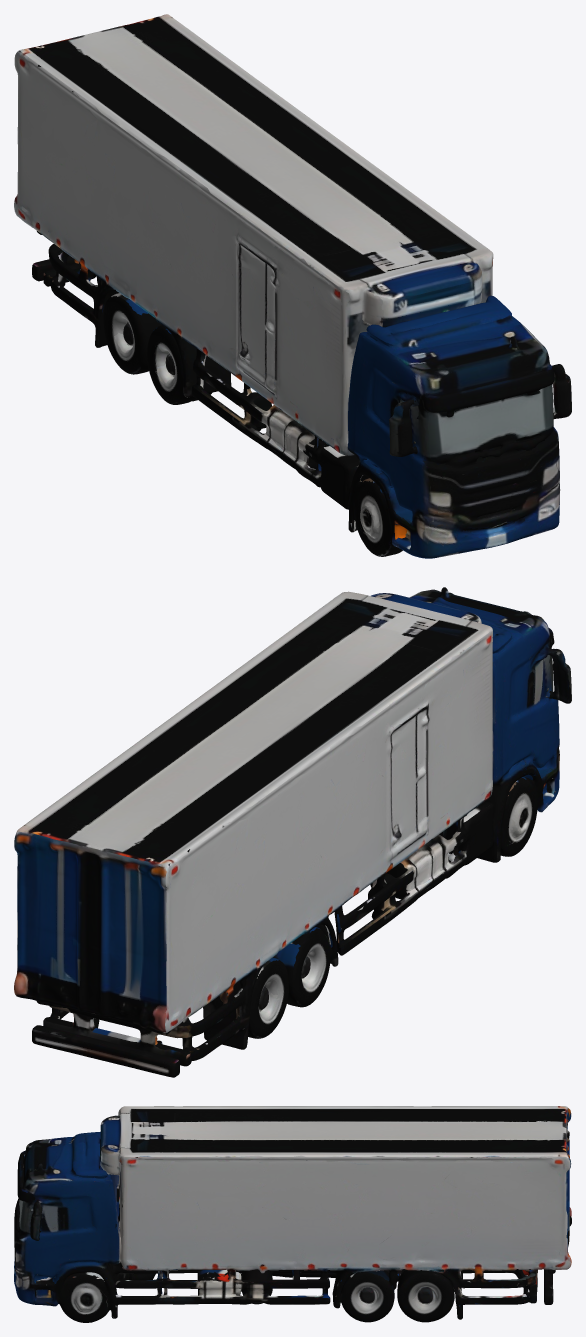
The model's file is generated-rural-truck.glb.
3 views of the same model, one above another, from view 1: azimuth 30°, elevation 25°; view 2: azimuth 150°, elevation 25°; view 3: azimuth 270°, elevation 25° (orthographic). The views are drawn at different scales.
Parts seen in each view (by area): view 1: truck-generated-textured; view 2: truck-generated-textured; view 3: truck-generated-textured.
Boxes of the visible parts, x1=… form: truck-generated-textured: x1=14, y1=14, x2=571, y2=558; truck-generated-textured: x1=14, y1=587, x2=571, y2=1077; truck-generated-textured: x1=14, y1=1106, x2=571, y2=1322.
Bounding box in the file's own units: 0.5095 × 0.6679 × 1.99.
1 material, 1 textured.
